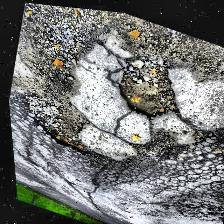pothole: (106, 47, 186, 127), (23, 92, 99, 158)
